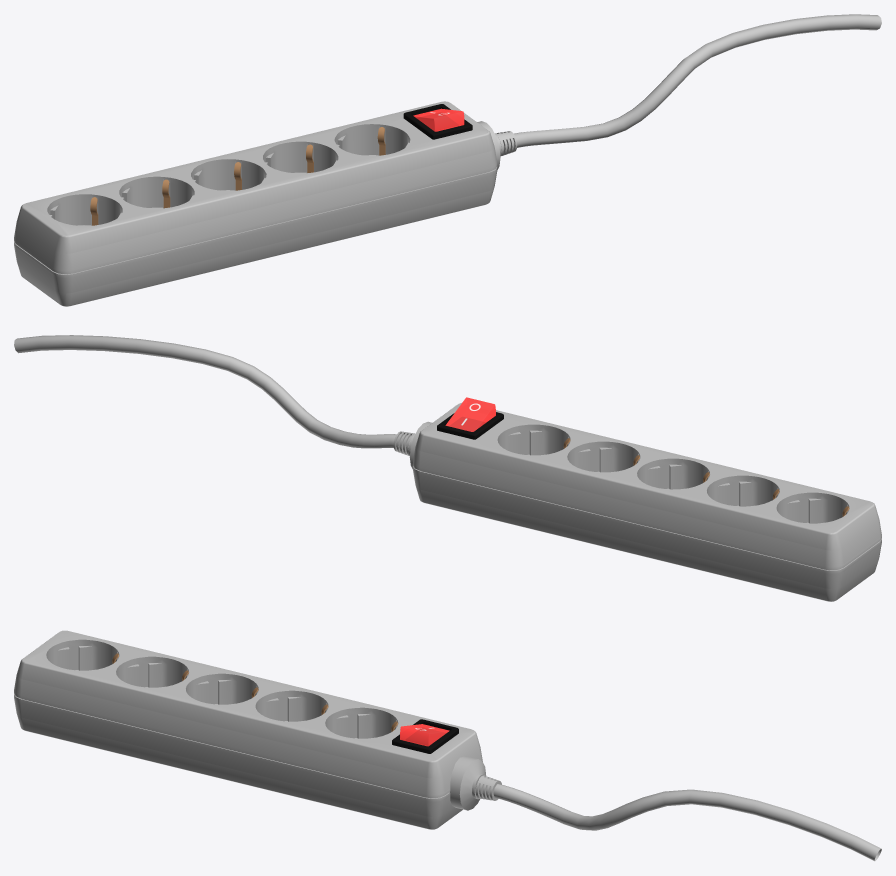
Rendered from Leiste.glb.
The picture shows the model from 3 angles, top to bottom: view 1: azimuth 30°, elevation 25°; view 2: azimuth 150°, elevation 25°; view 3: azimuth 330°, elevation 25°; orthographic projection. The views are drawn at different scales.
Visible parts, largest first — view 1: connector strip cable_white_0; view 2: connector strip cable_white_0; view 3: connector strip cable_white_0.
Boxes of the visible parts, box(x1,y1,x2,y2) form: connector strip cable_white_0: box(14, 14, 881, 306); connector strip cable_white_0: box(14, 335, 881, 601); connector strip cable_white_0: box(14, 630, 881, 861).
Bounding box in the file's own units: 0.5151 × 0.0504 × 0.0534.
Materials: 5 (1 with a texture image).
